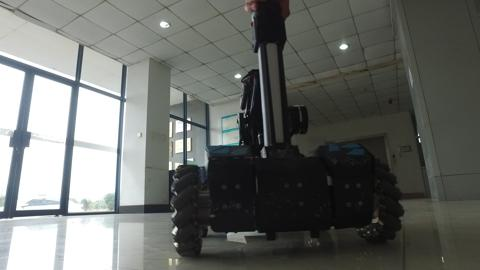chariot: (167, 15, 407, 258)
